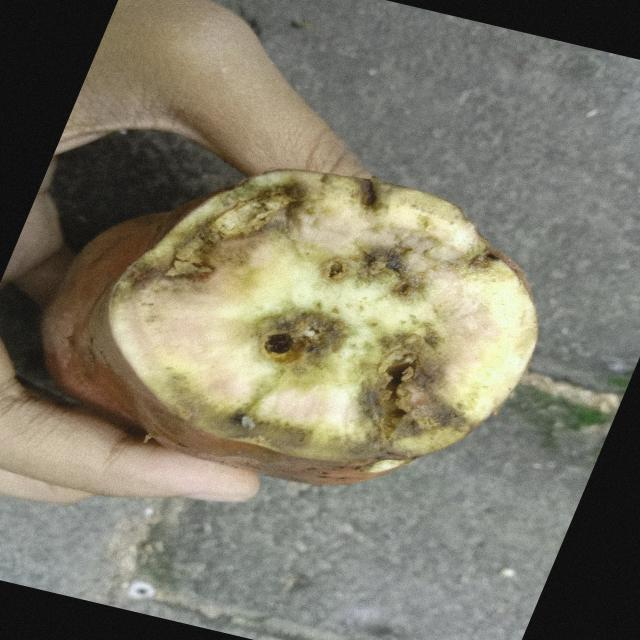Sick Sweet Potato_Tuber Rot: (108, 171, 537, 485)
